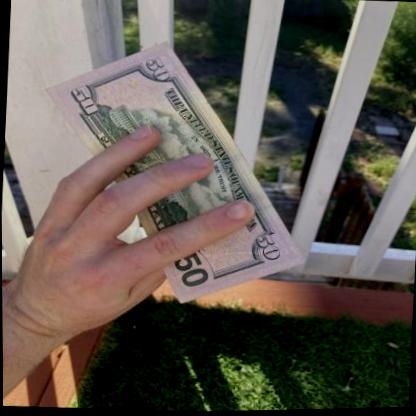fifty-back: (44, 41, 307, 307)
